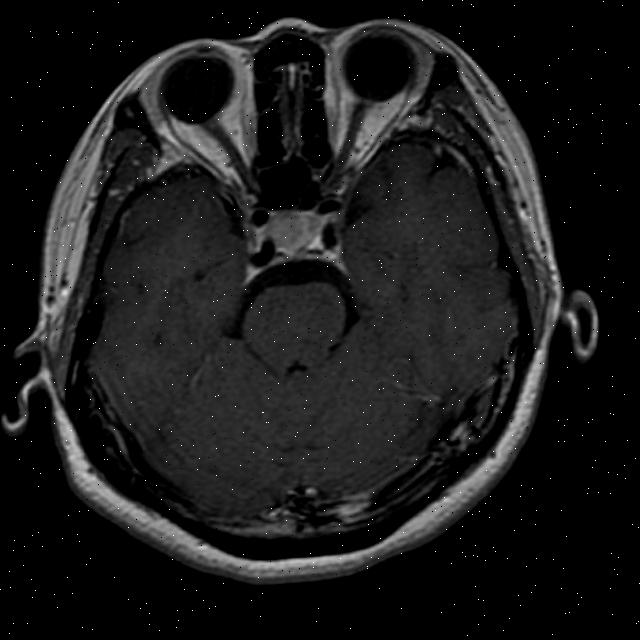Pituitary: (268, 207, 328, 257)
